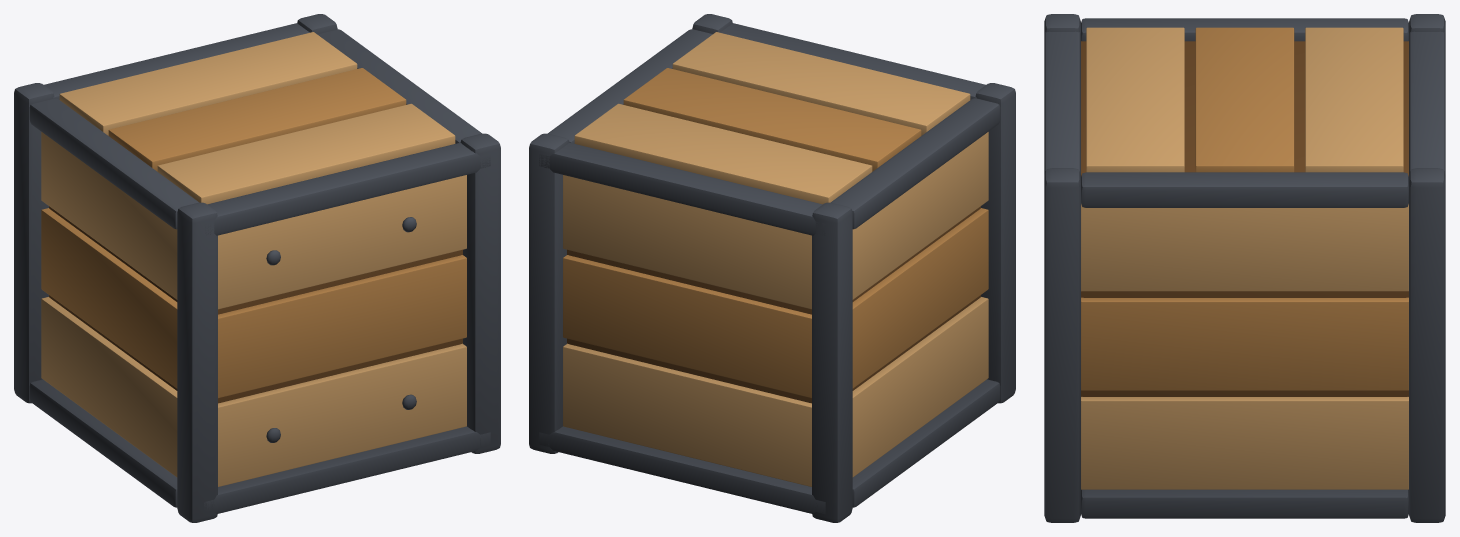
File: obstacle.glb
3 views of the same model, side by side, from view 1: azimuth 30°, elevation 25°; view 2: azimuth 150°, elevation 25°; view 3: azimuth 270°, elevation 25° (orthographic). The views are drawn at different scales.
Visible parts, largest first — view 1: model; view 2: model; view 3: model.
Boxes of the visible parts, bbox=[...] form: model: bbox=[14, 14, 500, 522]; model: bbox=[529, 14, 1015, 522]; model: bbox=[1044, 14, 1445, 522].
Bounding box in the file's own units: 1.1 × 1.04 × 1.1.
